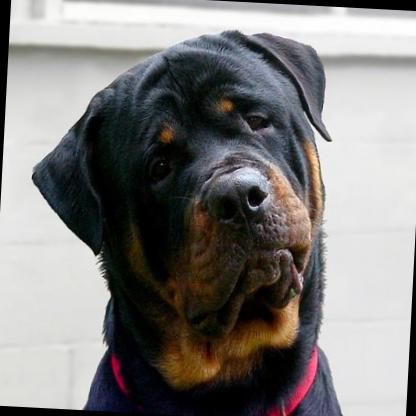Rottweiler: (14, 16, 367, 416)
